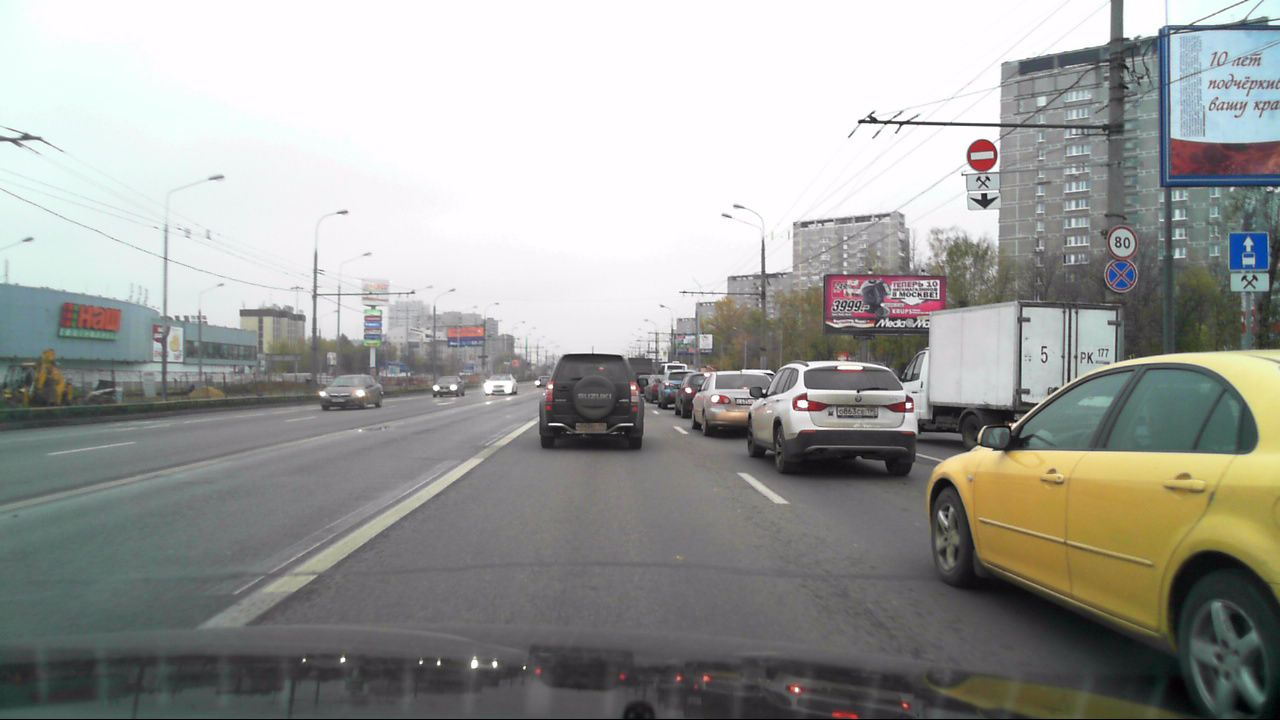No Parking: (1102, 259, 1140, 294)
